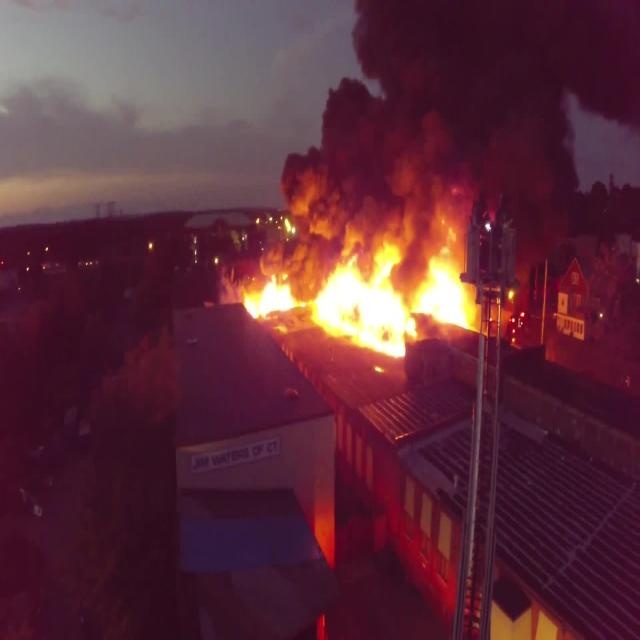Fire: (245, 248, 474, 352)
Smoke: (295, 0, 640, 244)
